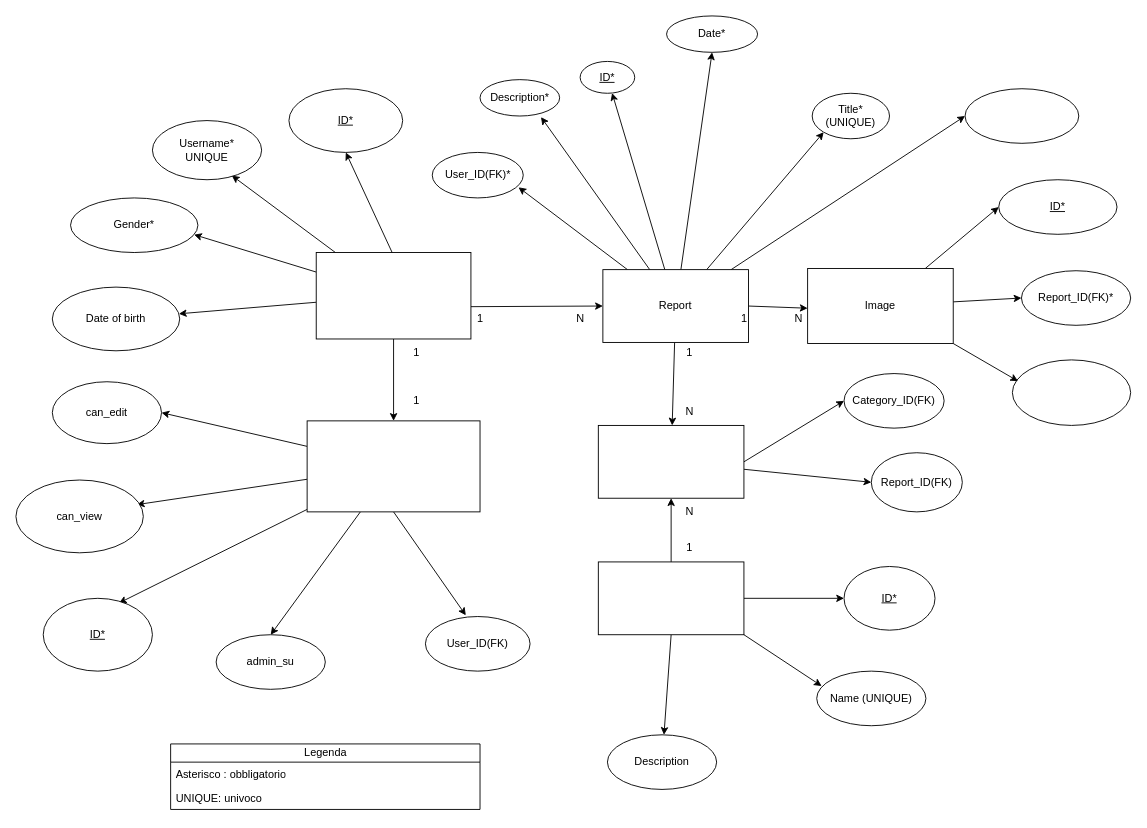
The diagram is 1147 pixels wide and 828 high, and some of its shapes have lost their labels. Here are the shapes that lost their labels. From the top down, the centre of each, then its label:
At (1021,115): "A ltitude*".
At (393,295): "User".
At (1071,392): "Path* (UNIQUE)".
At (393,466): "Permission".
At (670,461): "Report Category".
At (670,598): "Category".
